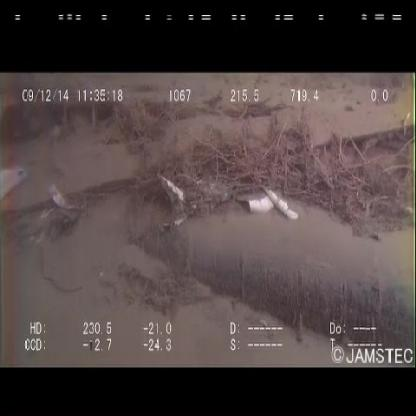Rác: (153, 169, 233, 233), (235, 178, 302, 231), (45, 182, 89, 218)
